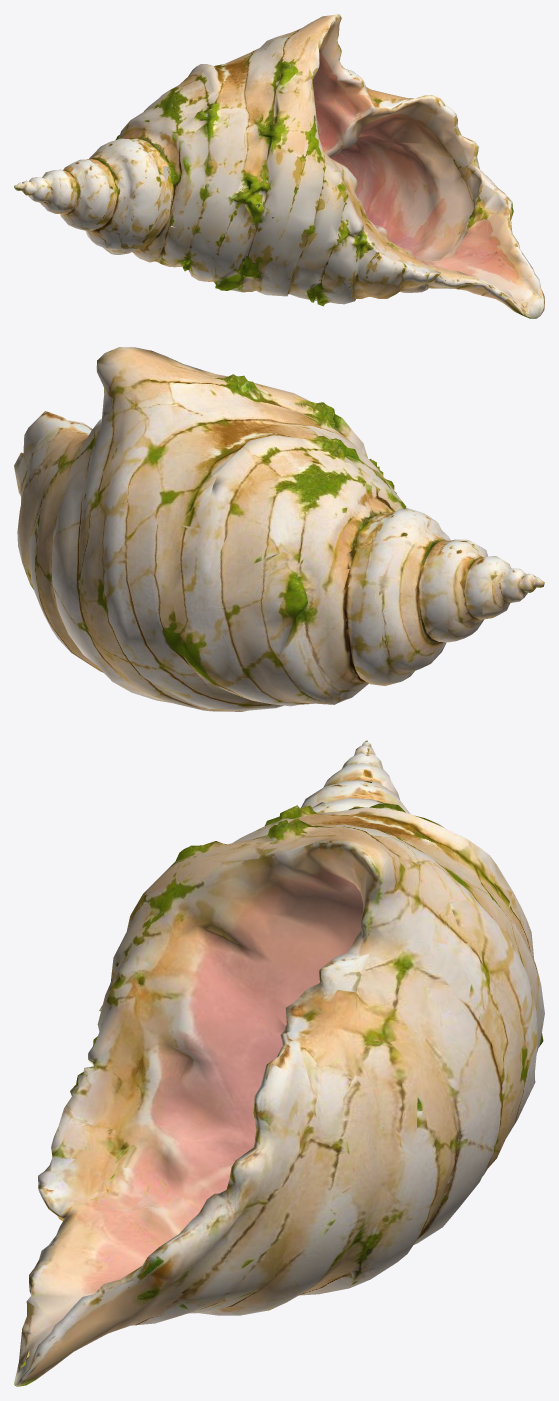
Rendered from singing-conch.glb.
The picture shows the model from 3 angles, top to bottom: view 1: azimuth 30°, elevation 25°; view 2: azimuth 150°, elevation 25°; view 3: azimuth 270°, elevation 25°; orthographic projection. The views are drawn at different scales.
Visible parts, largest first — view 1: Mesh_0; view 2: Mesh_0; view 3: Mesh_0.
Boxes of the visible parts, left/top/right/bottom form: Mesh_0: left=14, top=14, right=544, bottom=318; Mesh_0: left=14, top=347, right=544, bottom=711; Mesh_0: left=14, top=740, right=544, bottom=1386.
Size of the model in its own units: 0.9508 by 0.5339 by 0.5677.
1 material, 1 textured.
